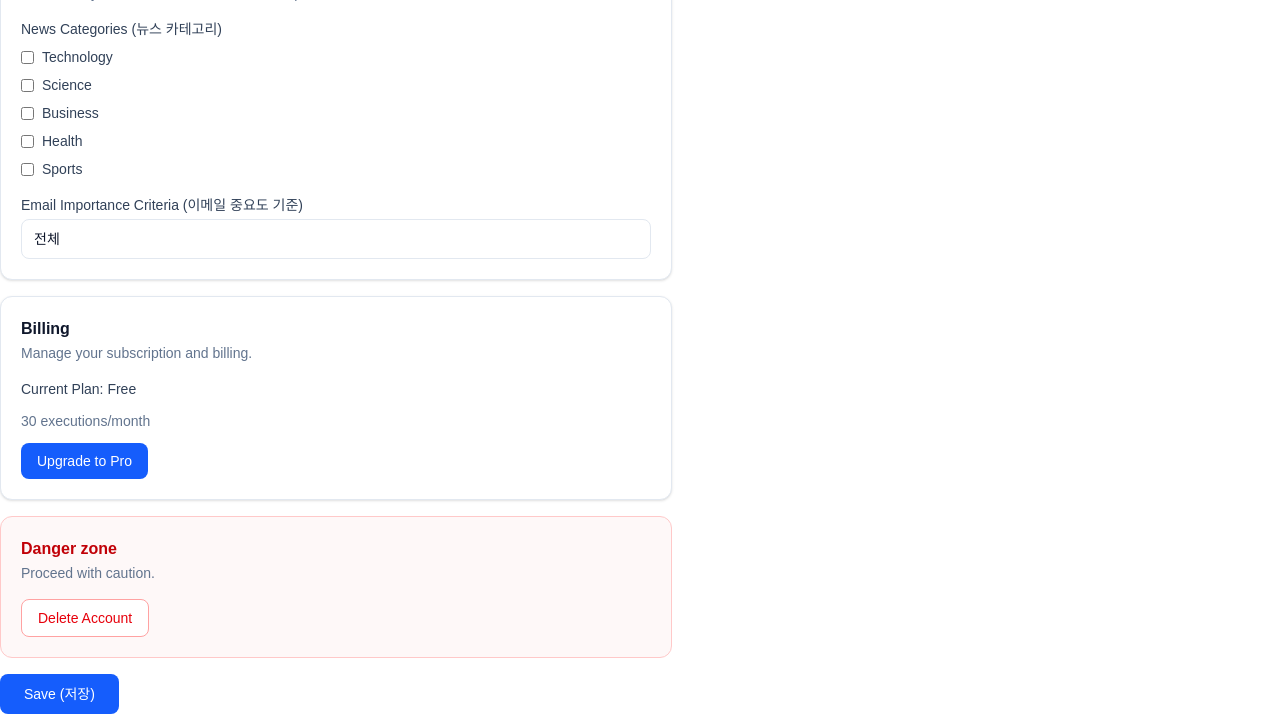
Test case: TC-7013: 계정 삭제 버튼 및 확인 모달 › Cancel 클릭 시 모달이 닫힌다 — RED: 모달 미구현
The image size is (1280, 714).
(page scrolled)
Click the button "Delete Account". click: [85, 618]
box: [21,599,149,637]
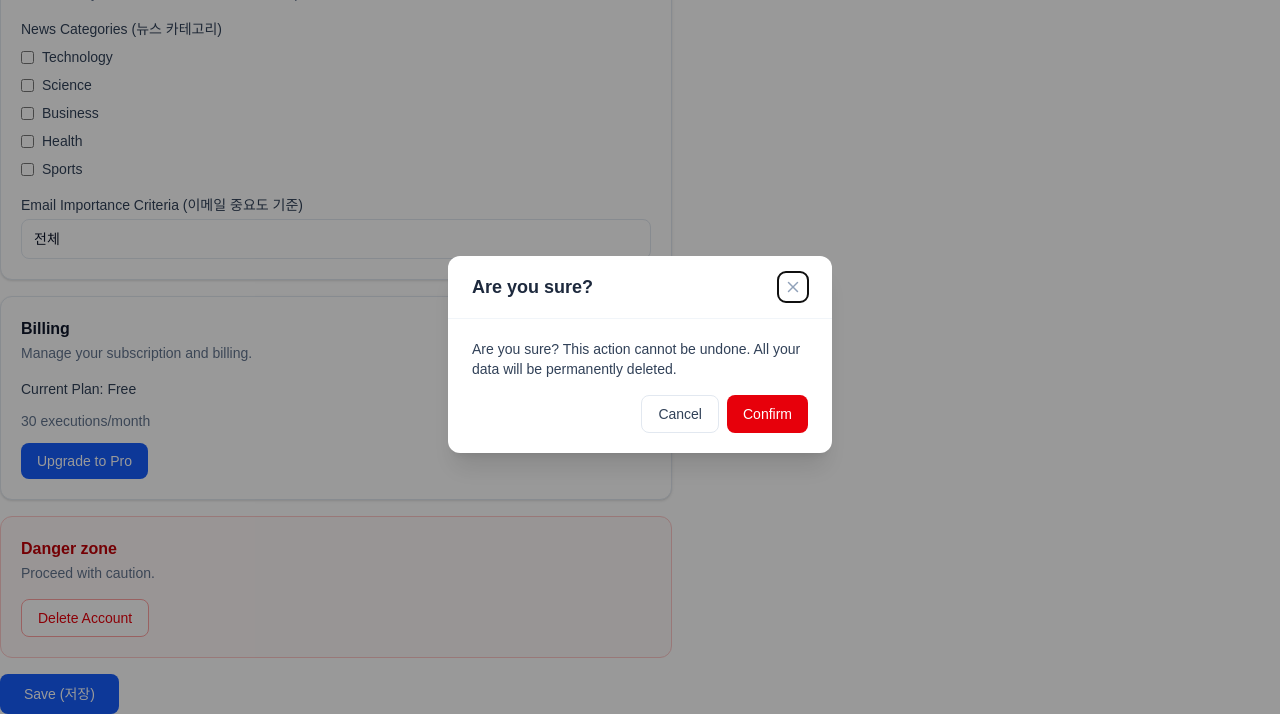
Expected: the button "Cancel" is shown
Click the button "Cancel". click: [680, 414]
box: [641,394,719,432]
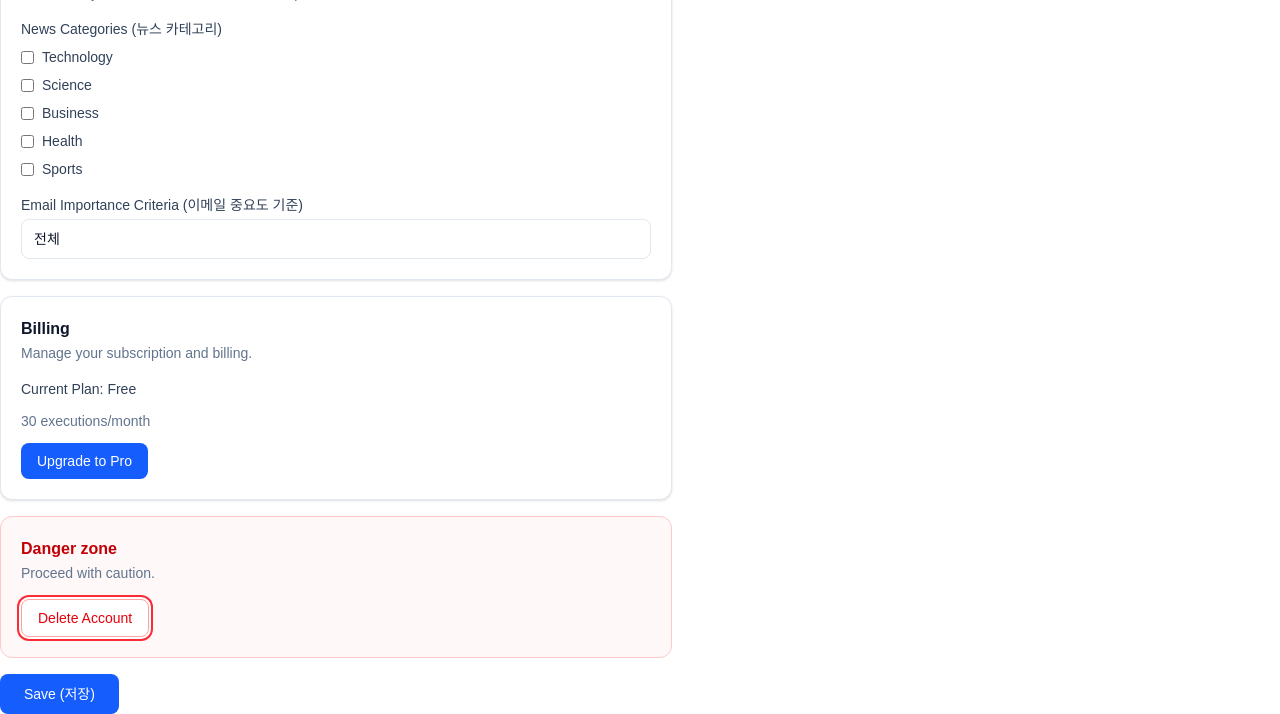
Expected: the heading "Are you sure?" is gone
